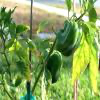Bell_pepper leaf spot: (14, 60, 31, 83), (41, 66, 52, 99), (24, 38, 42, 58), (31, 20, 50, 36)
